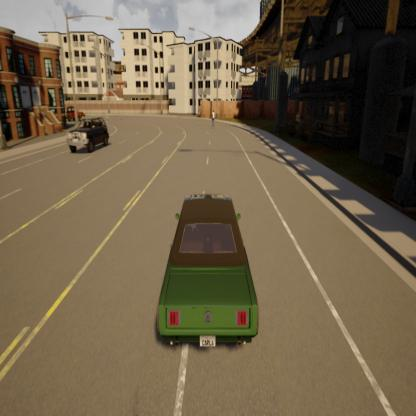Cars: (156, 188, 262, 362), (67, 113, 111, 162), (63, 102, 85, 121)
